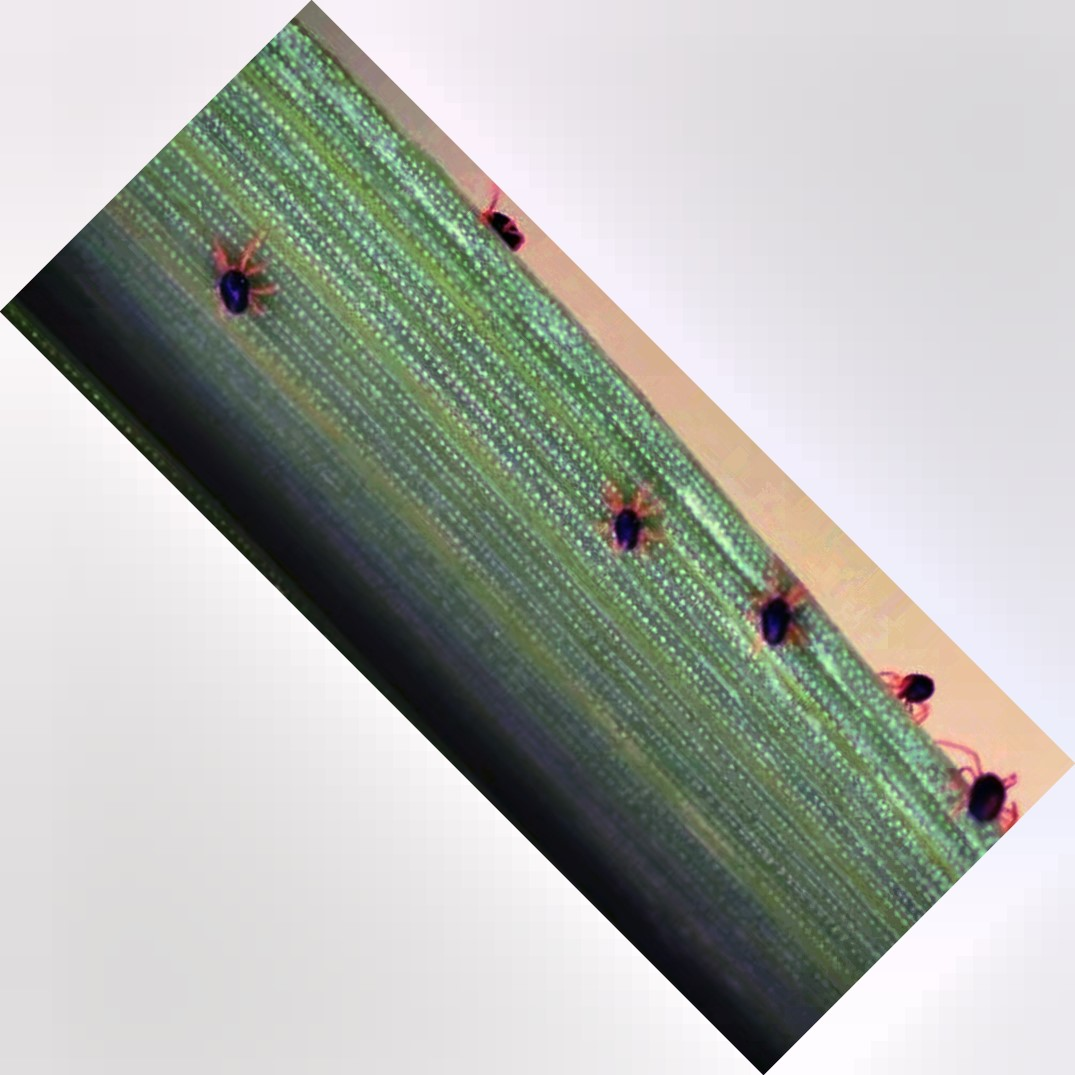Wheat Red Spider: (195, 223, 280, 330)
